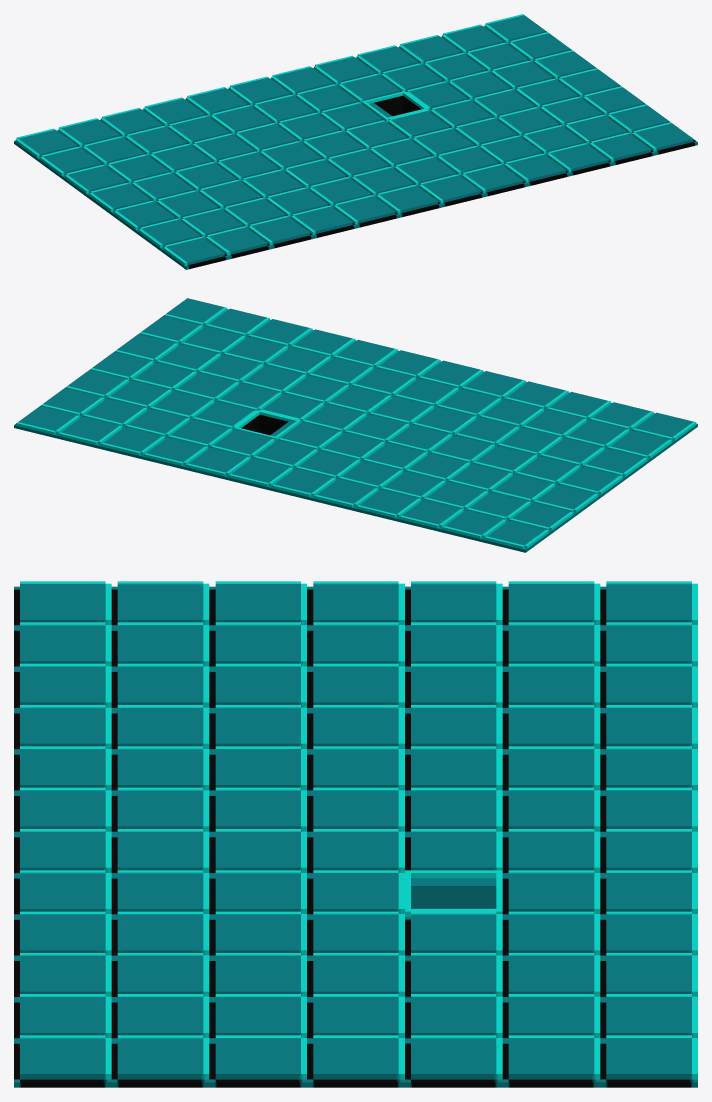
The model's file is FloorStairsSpiral.glb.
3 views of the same model, one above another, from view 1: azimuth 30°, elevation 25°; view 2: azimuth 150°, elevation 25°; view 3: azimuth 270°, elevation 25° (orthographic). The views are drawn at different scales.
Visible parts, largest first — view 1: FloorStairsSpiral; view 2: FloorStairsSpiral; view 3: FloorStairsSpiral.
Boxes of the visible parts, box(x1,y1,x2,y2) form: FloorStairsSpiral: box(14, 14, 697, 269); FloorStairsSpiral: box(14, 298, 697, 552); FloorStairsSpiral: box(14, 581, 697, 1087).
Size of what is drawn, in the model's own units: 19.2 by 1.6 by 11.2.
1 material, 1 textured.
